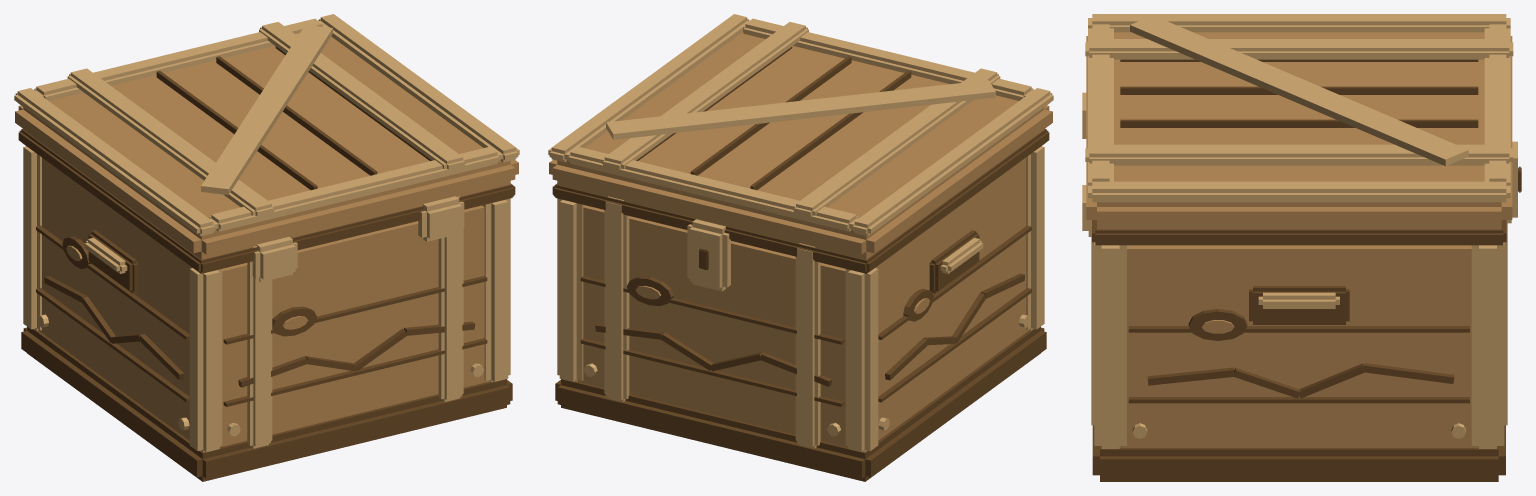
The model's file is crate_pinho.fbx.
3 views of the same model, side by side, from view 1: azimuth 30°, elevation 25°; view 2: azimuth 150°, elevation 25°; view 3: azimuth 270°, elevation 25° (orthographic). The views are drawn at different scales.
Parts seen in each view (by area): view 1: crate_pinho_caixa; view 2: crate_pinho_caixa; view 3: crate_pinho_caixa.
Boxes of the visible parts, x1,y1,x2,y2 form: crate_pinho_caixa: (14, 14, 519, 481); crate_pinho_caixa: (548, 14, 1053, 481); crate_pinho_caixa: (1082, 14, 1521, 481).
Bounding box in the file's own units: 2.68 × 2.11 × 2.7.
1 material, 1 textured.
